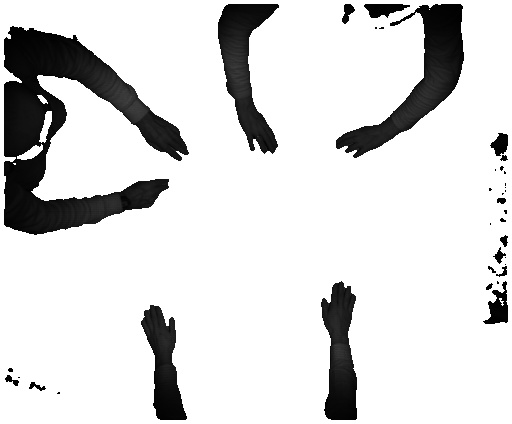hand: (141, 114, 191, 167), (236, 103, 279, 159), (320, 280, 359, 338), (336, 117, 388, 159), (136, 304, 175, 359), (126, 177, 175, 215)
